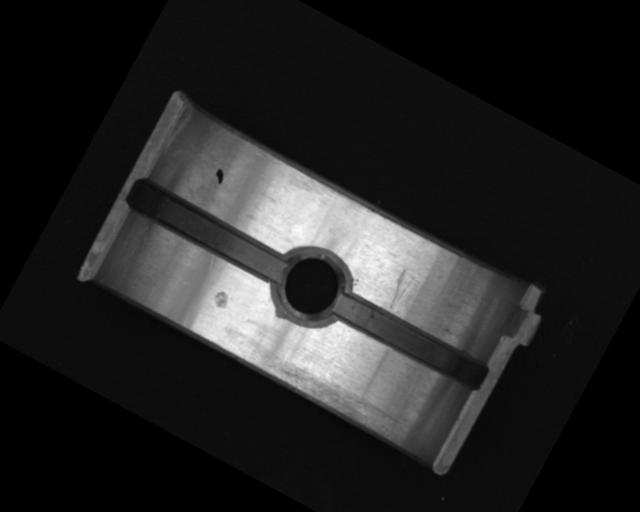blot: (211, 167, 228, 185)
bruise: (209, 287, 232, 311)
gap: (122, 174, 295, 290), (331, 288, 492, 395)
hole: (261, 235, 363, 339)
nick: (379, 264, 419, 316)
scratch: (255, 346, 408, 446)
